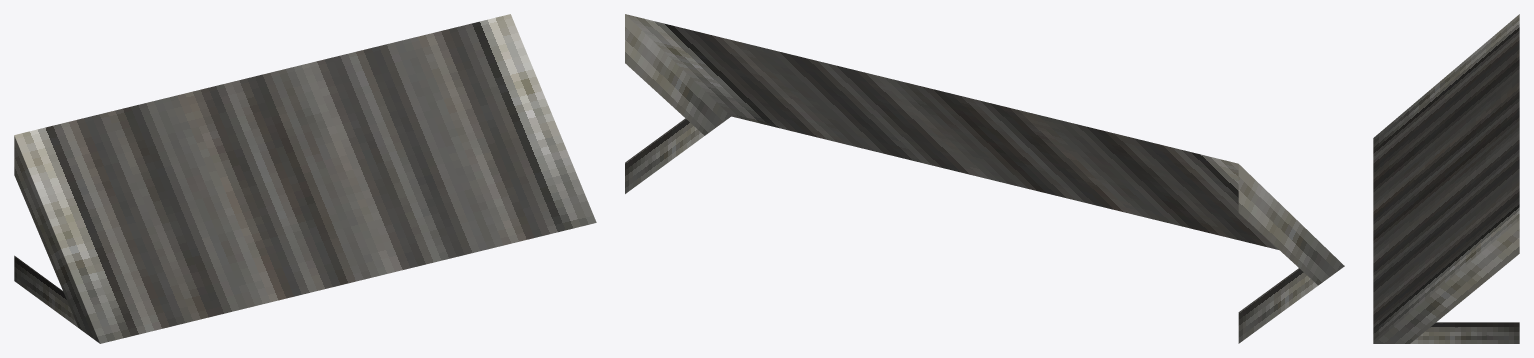
File: detailAwning_wide.glb
3 views of the same model, side by side, from view 1: azimuth 30°, elevation 25°; view 2: azimuth 150°, elevation 25°; view 3: azimuth 270°, elevation 25° (orthographic). The views are drawn at different scales.
Visible parts, largest first — view 1: detailAwning_wide; view 2: detailAwning_wide; view 3: detailAwning_wide.
Part boxes in pixels (bbox=[...]): detailAwning_wide: bbox=[14, 14, 596, 343]; detailAwning_wide: bbox=[625, 14, 1344, 343]; detailAwning_wide: bbox=[1373, 14, 1519, 343].
Bounding box in the file's own units: 1 × 0.2808 × 0.3.
Materials: 1 (1 with a texture image).
